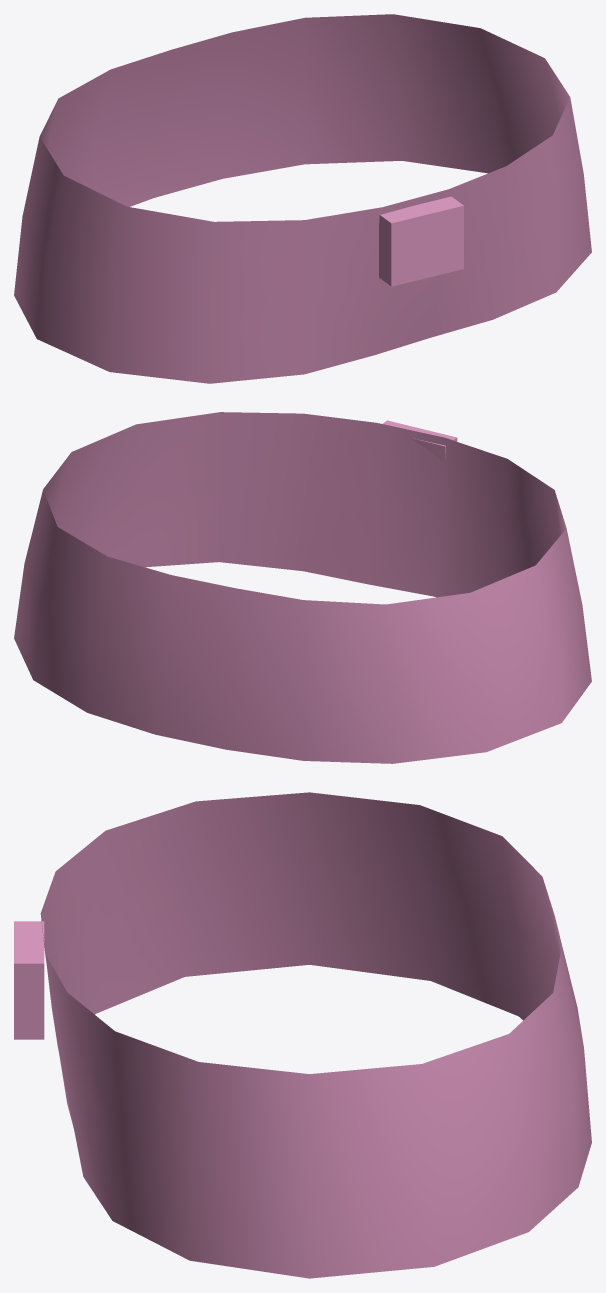
The model's file is orichalcum_armor_belt.glb.
3 views of the same model, one above another, from view 1: azimuth 30°, elevation 25°; view 2: azimuth 150°, elevation 25°; view 3: azimuth 270°, elevation 25° (orthographic). The views are drawn at different scales.
Parts seen in each view (by area): view 1: orichalcum_armor_belt; view 2: orichalcum_armor_belt; view 3: orichalcum_armor_belt.
Boxes of the visible parts, x1,y1,x2,y2 form: orichalcum_armor_belt: (14, 14, 591, 383); orichalcum_armor_belt: (14, 412, 591, 763); orichalcum_armor_belt: (14, 792, 591, 1278).
Bounding box in the file's own units: 0.4427 × 0.1238 × 0.3446.
